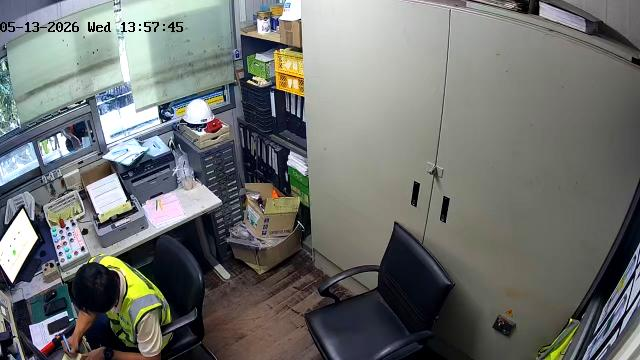Head: (73, 263, 119, 313)
People: (66, 255, 170, 359)
Phone: (44, 298, 66, 315), (48, 317, 69, 334)
